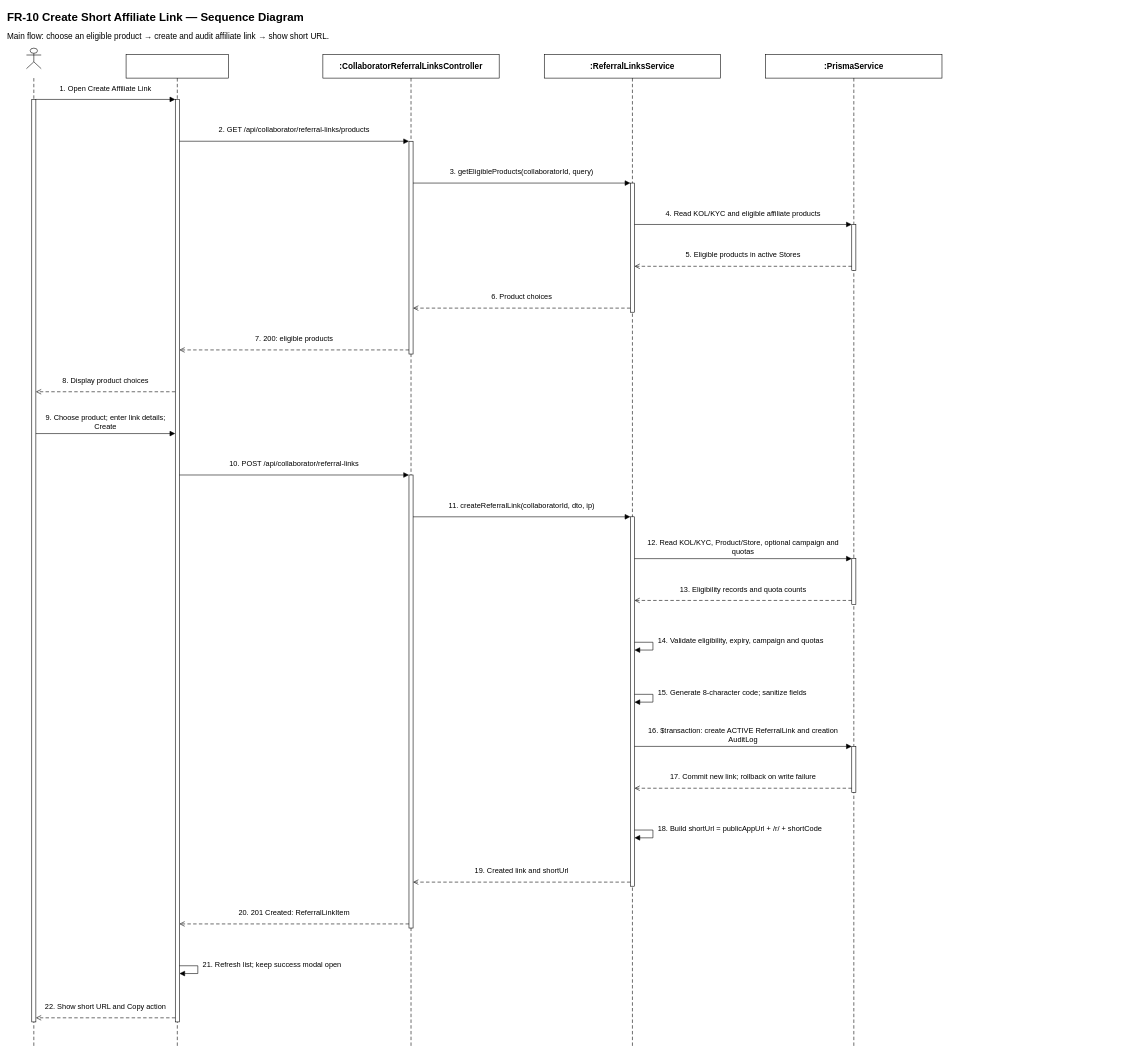
The diagram is 1141 pixels wide and 1054 high, and some of its shapes have lost their labels. The shapes that lost their labels are listed below. From the top down, each one's centre as x and y in pixels, then its label:
the point at 33,58: KOL
the point at 177,66: Browser
